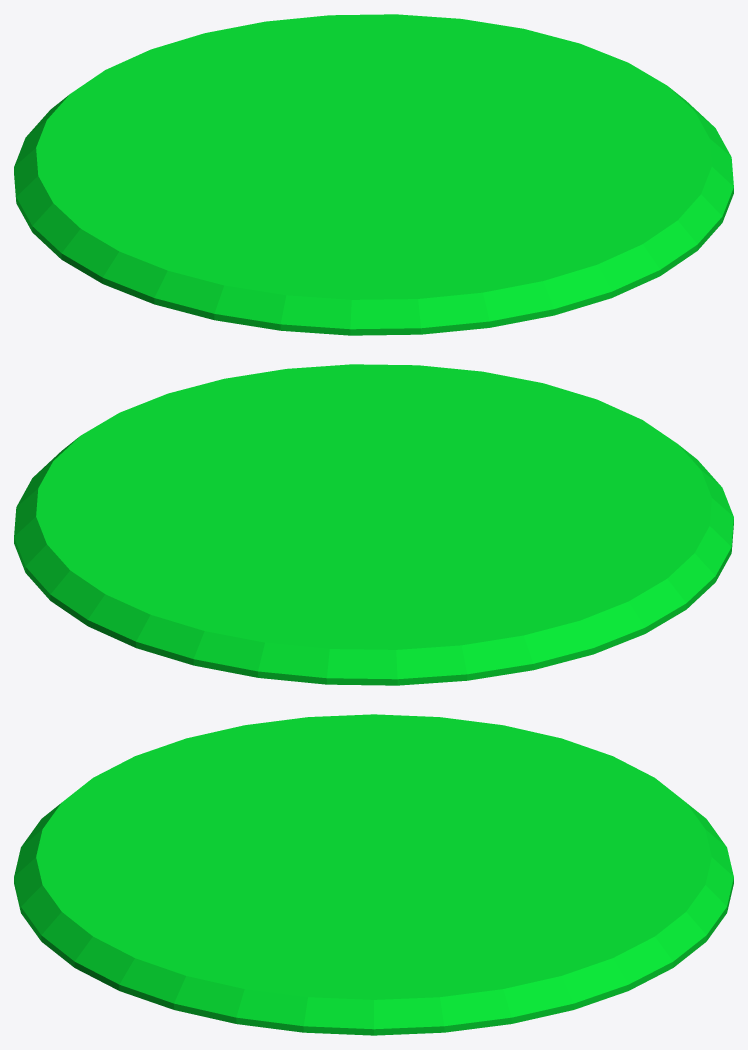
The model's file is ButtonTop.fbx.
3 renders of one model, top to bottom at view 1: azimuth 30°, elevation 25°; view 2: azimuth 150°, elevation 25°; view 3: azimuth 270°, elevation 25°, orthographic.
Visible parts, largest first — view 1: ButtonTop; view 2: ButtonTop; view 3: ButtonTop.
Part boxes in pixels (bbox=[...]): ButtonTop: bbox=[14, 14, 733, 335]; ButtonTop: bbox=[14, 364, 733, 685]; ButtonTop: bbox=[14, 714, 733, 1035].
Size of the model in its own units: 305 by 12.31 by 305.
